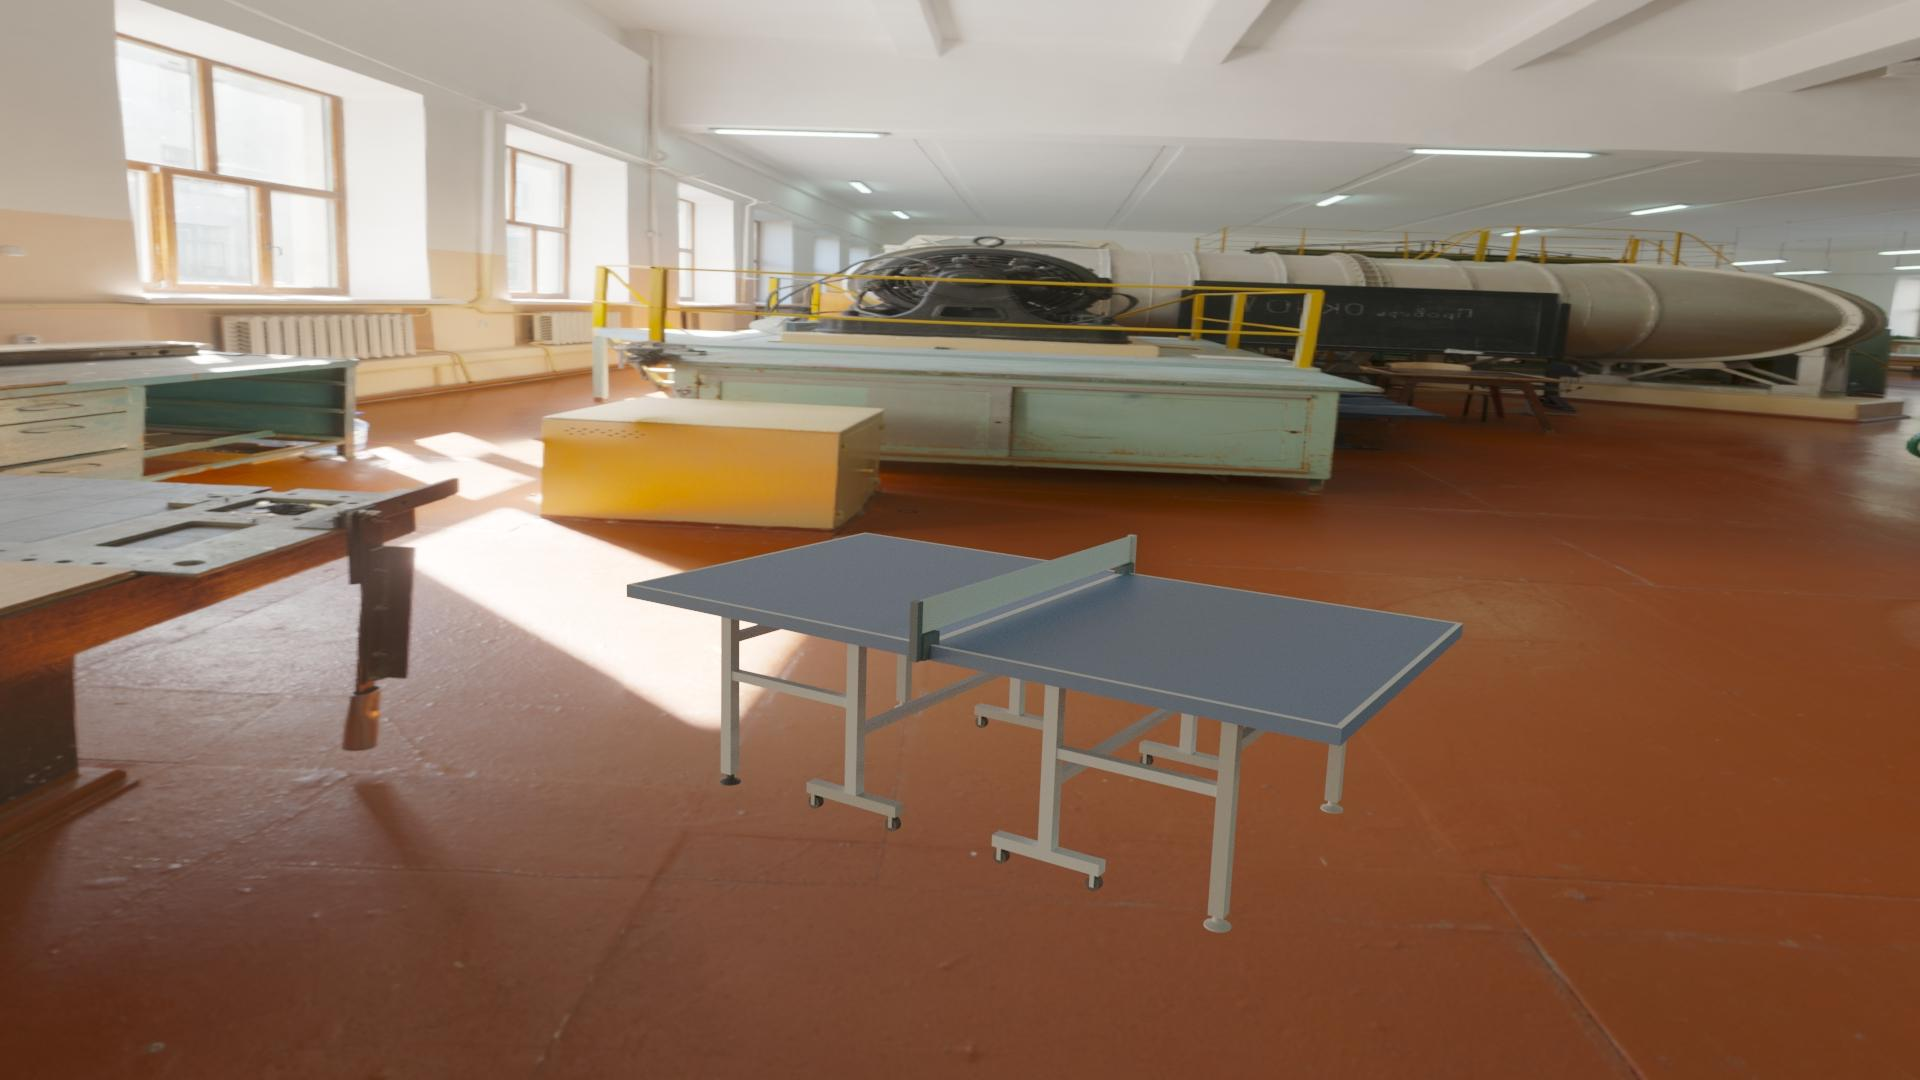table: (634, 534, 1456, 725)
